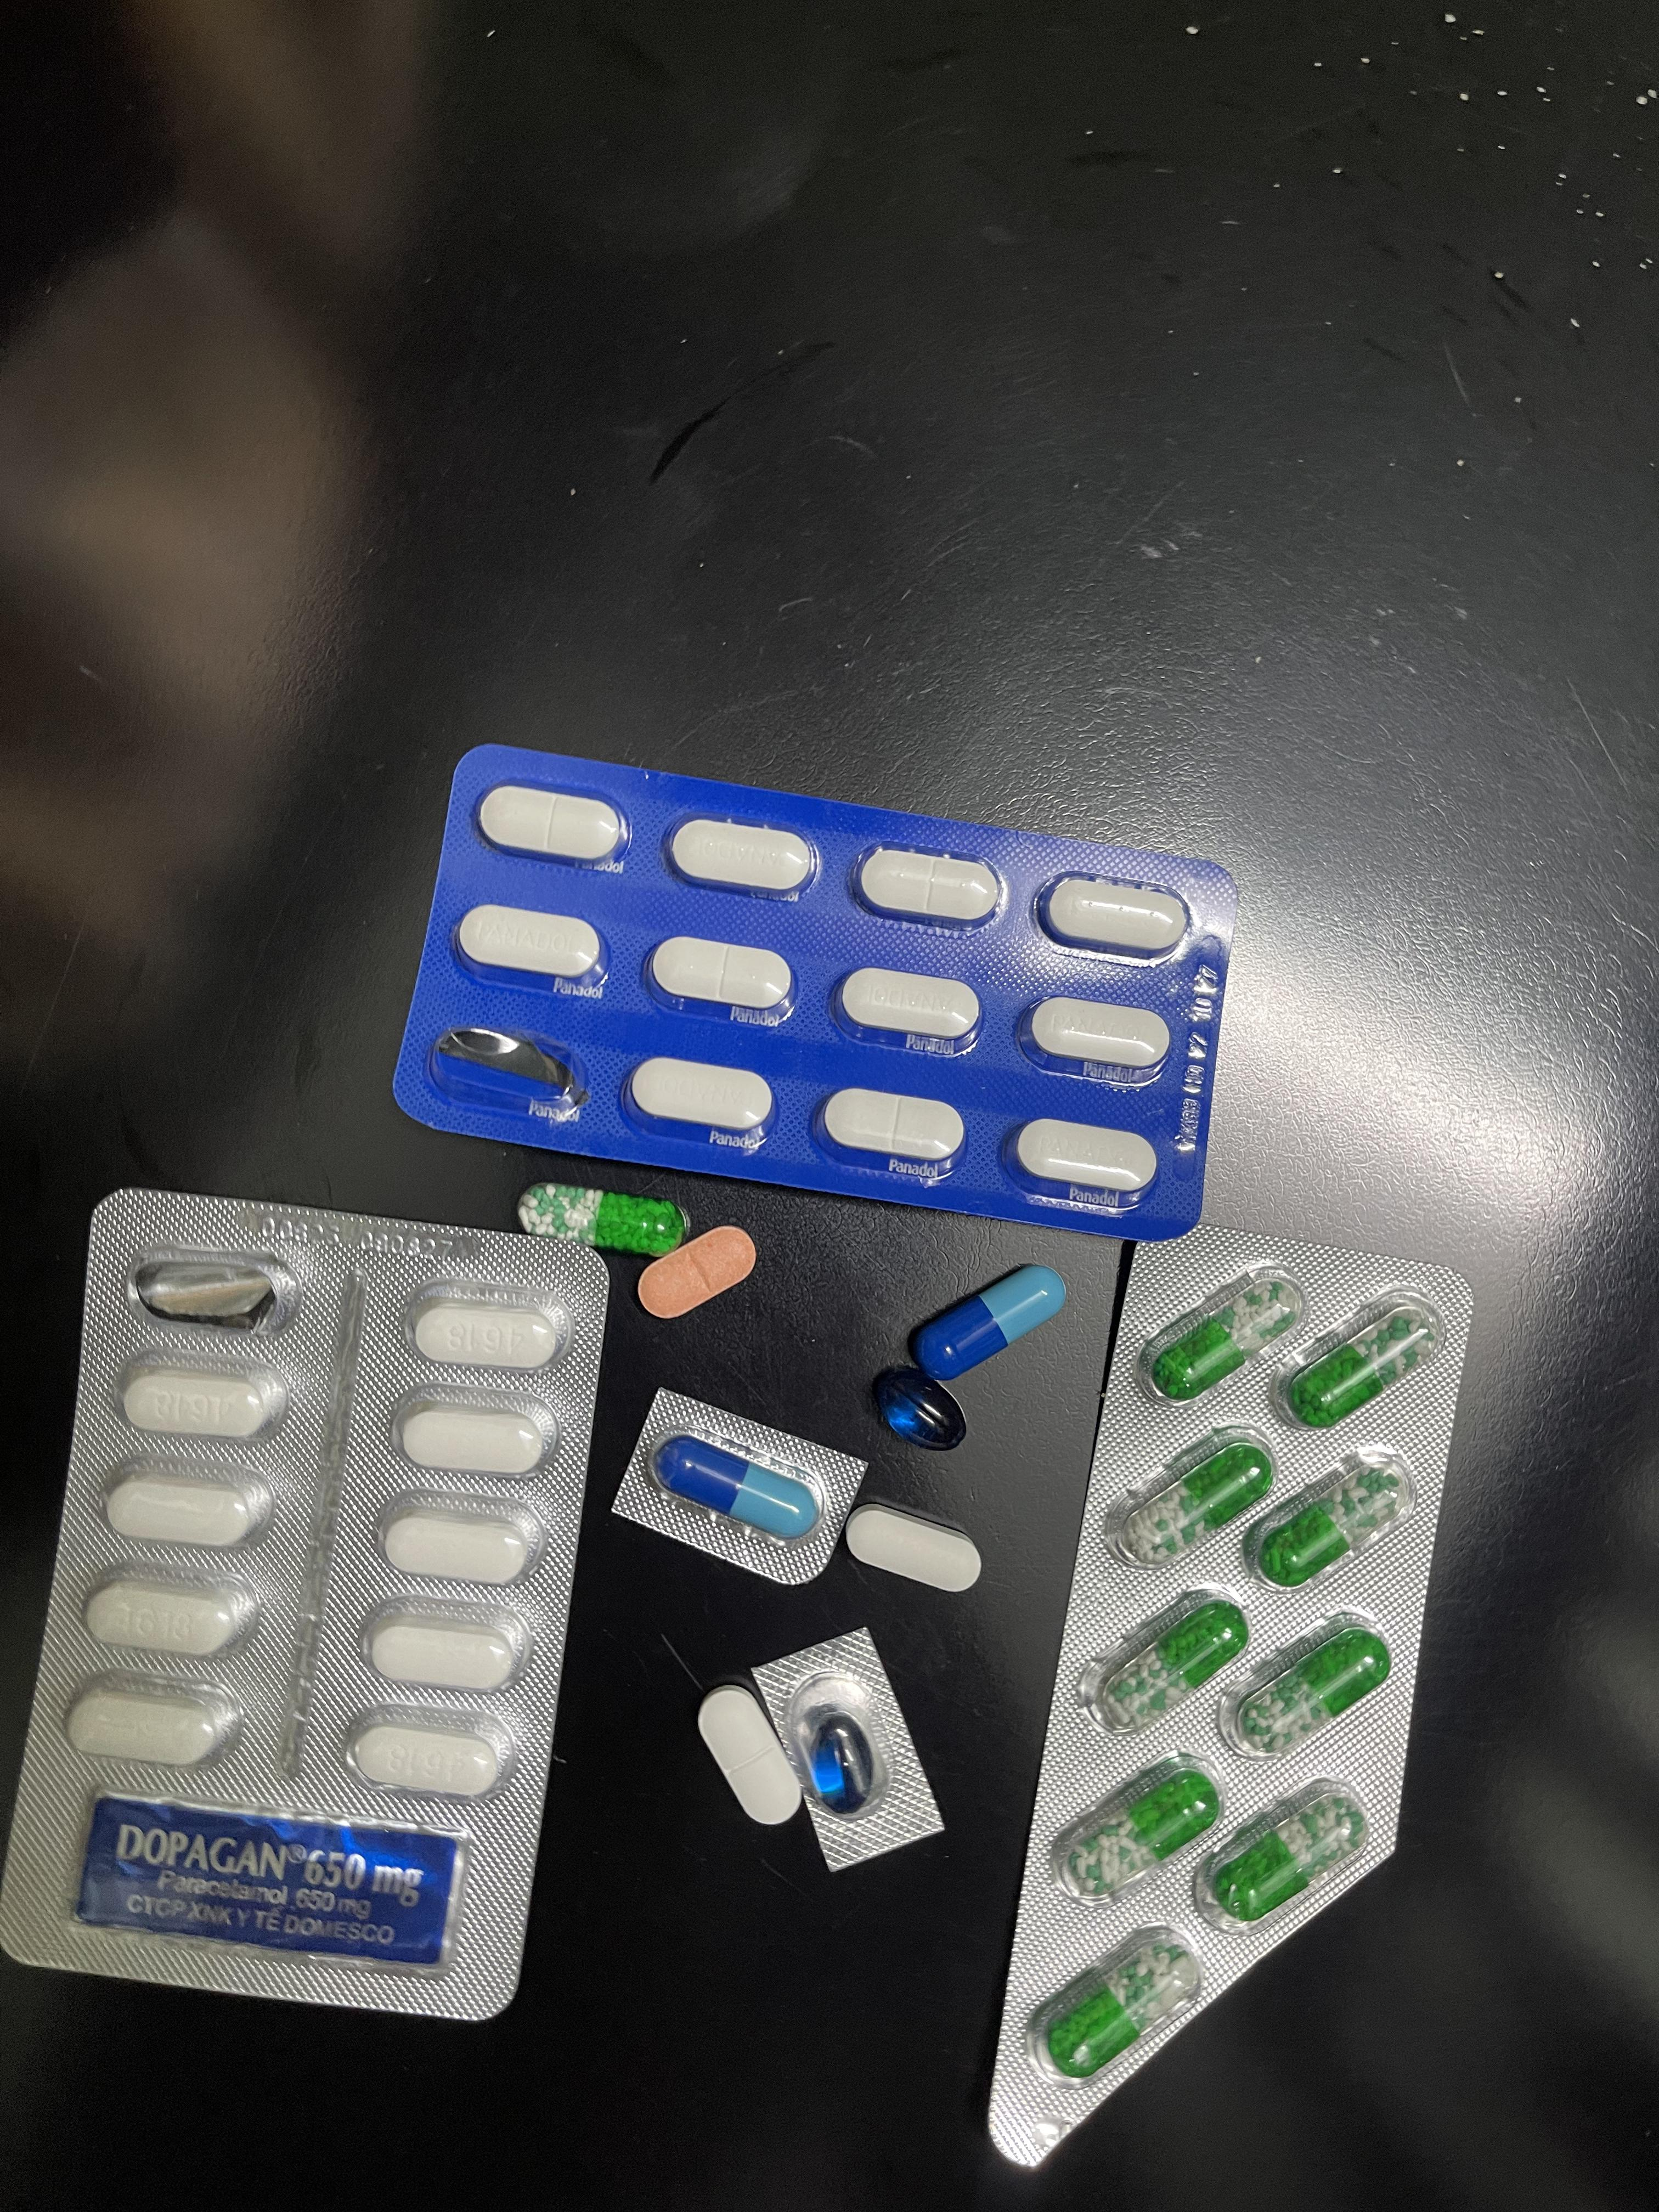Lincomyxin_500mg: (873, 1364, 968, 1450), (806, 1713, 877, 1814)
Loratadine_10mg: (635, 1226, 758, 1323)
Paracetamol_350mg: (695, 1680, 800, 1827), (456, 903, 608, 995), (1036, 872, 1189, 961), (645, 936, 793, 1025), (853, 842, 1002, 928), (1011, 1119, 1158, 1206), (668, 817, 824, 900), (626, 1057, 775, 1142), (822, 1087, 967, 1174), (837, 967, 981, 1052), (1024, 997, 1171, 1080), (478, 785, 623, 867)
Paracetamol_500mg: (64, 1674, 246, 1769), (342, 1706, 516, 1800), (381, 1488, 552, 1577), (361, 1601, 532, 1691), (117, 1351, 294, 1436), (82, 1576, 260, 1658), (104, 1471, 277, 1550), (845, 1502, 983, 1594), (395, 1409, 551, 1477), (412, 1302, 558, 1366)
Paracetamol_650mg: (1020, 1921, 1192, 2084), (1195, 1777, 1375, 1932), (1048, 1749, 1222, 1904), (1217, 1610, 1394, 1760), (1242, 1449, 1418, 1597), (1079, 1586, 1250, 1734), (1268, 1288, 1443, 1427), (1106, 1425, 1274, 1568), (1133, 1265, 1299, 1402), (520, 1186, 690, 1255)
pill: (652, 1430, 820, 1542), (910, 1263, 1064, 1385)
